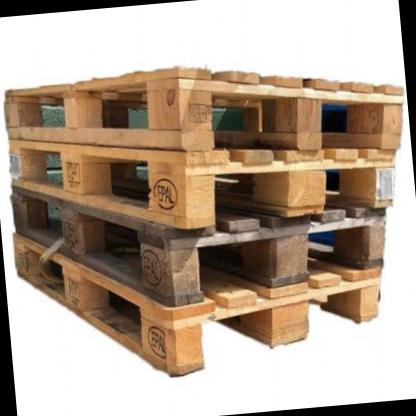BoxFace: (13, 238, 383, 380), (2, 185, 391, 305), (5, 65, 404, 152), (10, 143, 397, 229)
